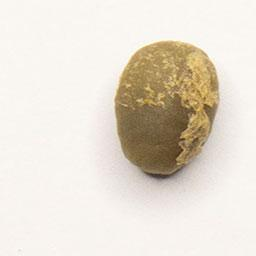premium: (113, 38, 222, 179)
